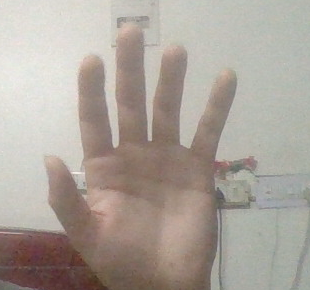move: (46, 22, 243, 288)
